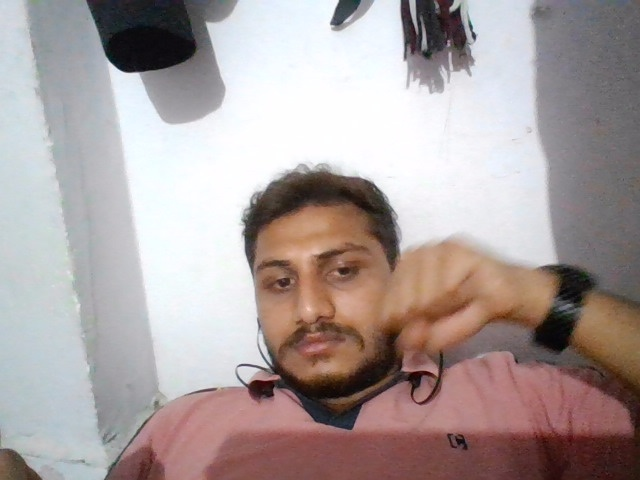Yes: (363, 225, 537, 347)
